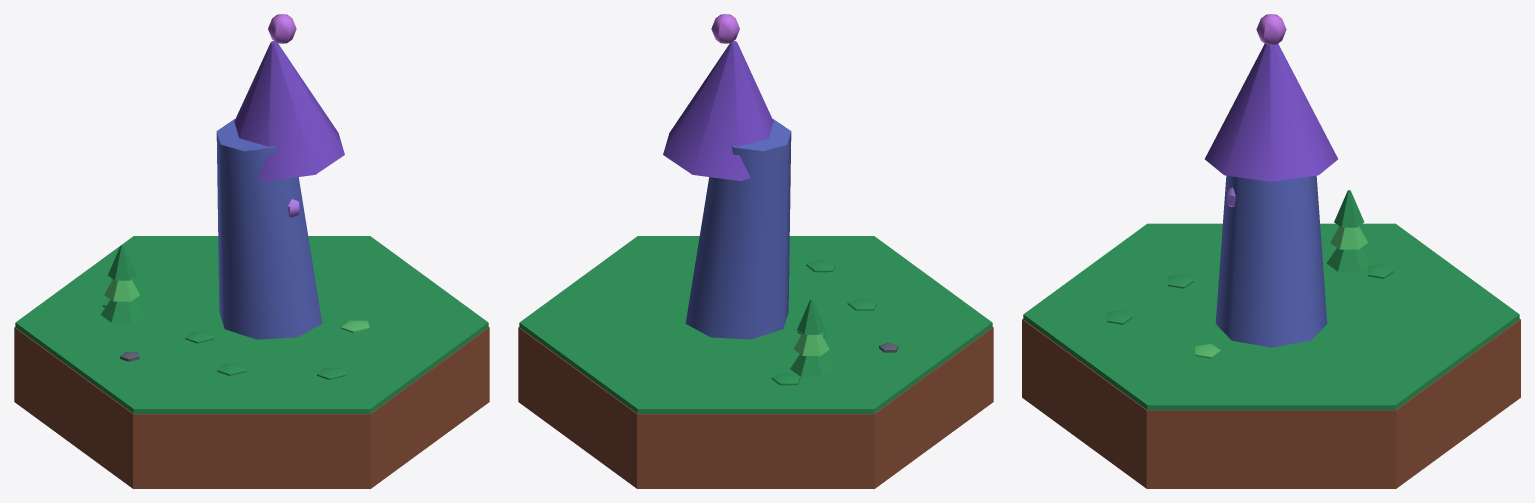
Rendered from building-wizard-tower.glb.
3 views of the same model, side by side, from view 1: azimuth 30°, elevation 25°; view 2: azimuth 150°, elevation 25°; view 3: azimuth 270°, elevation 25° (orthographic). The views are drawn at different scales.
Parts seen in each view (by area): view 1: building_wizard_tower; view 2: building_wizard_tower; view 3: building_wizard_tower.
Part boxes in pixels (left/top/right/bottom): building_wizard_tower: left=14, top=14, right=489, bottom=488; building_wizard_tower: left=518, top=14, right=993, bottom=488; building_wizard_tower: left=1022, top=14, right=1520, bottom=488.
Size of the model in its own units: 1 by 1.02 by 1.15.
1 material, 1 textured.
